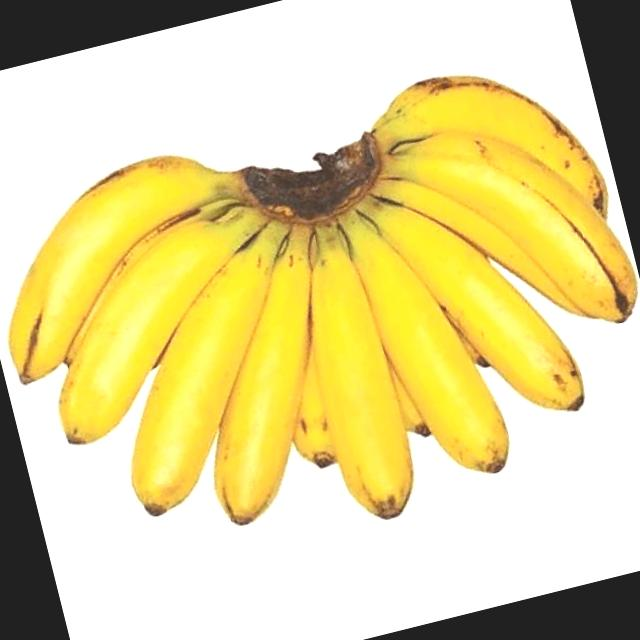Platano: (0, 33, 640, 607)
